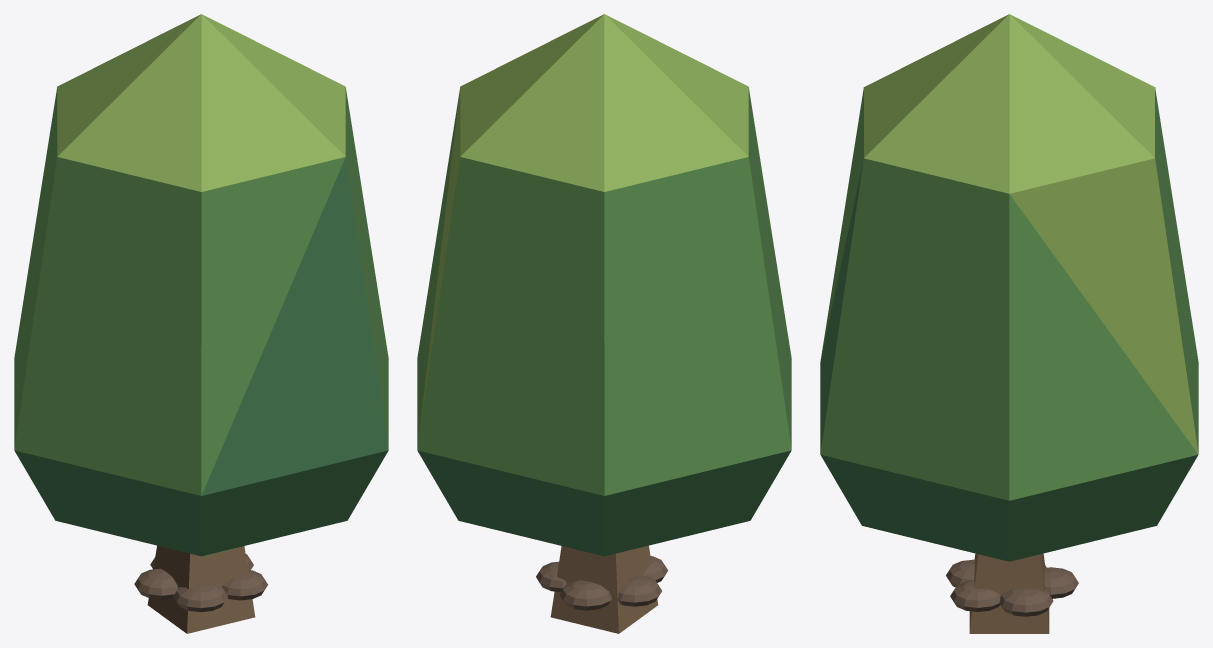
The model's file is tree_fat.glb.
3 views of the same model, side by side, from view 1: azimuth 30°, elevation 25°; view 2: azimuth 150°, elevation 25°; view 3: azimuth 270°, elevation 25° (orthographic).
Visible parts, largest first — view 1: tree_fat; view 2: tree_fat; view 3: tree_fat.
Boxes of the visible parts, <box> form: tree_fat: <box>14,14,388,633</box>; tree_fat: <box>417,14,791,633</box>; tree_fat: <box>820,14,1198,633</box>.
Bounding box in the file's own units: 0.755 × 1.15 × 0.6538.
